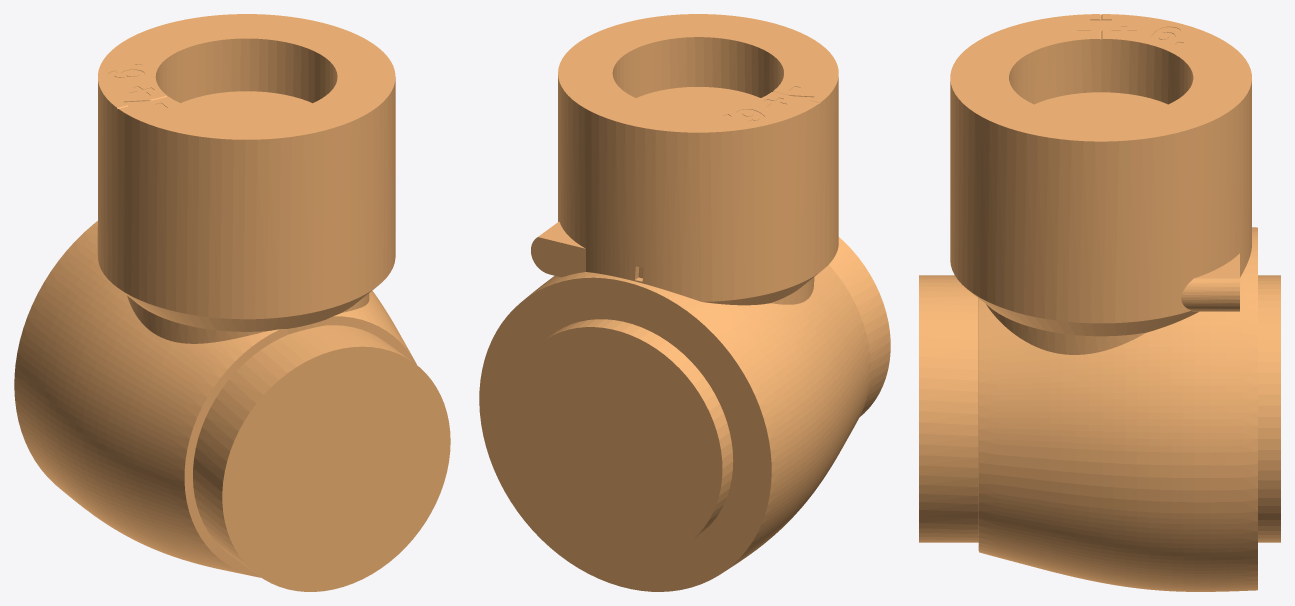
Rendered from KukaKR4Link5.dae.
The picture shows the model from 3 angles, left to right: view 1: azimuth 30°, elevation 25°; view 2: azimuth 150°, elevation 25°; view 3: azimuth 270°, elevation 25°; orthographic projection. The views are drawn at different scales.
Parts seen in each view (by area): view 1: KR4Link5; view 2: KR4Link5; view 3: KR4Link5.
Boxes of the visible parts, <box> form: KR4Link5: <box>14,14,450,591</box>; KR4Link5: <box>479,14,890,591</box>; KR4Link5: <box>919,14,1280,591</box>.
Size of the model in its own units: 0.0397 by 0.0392 by 0.0595.
